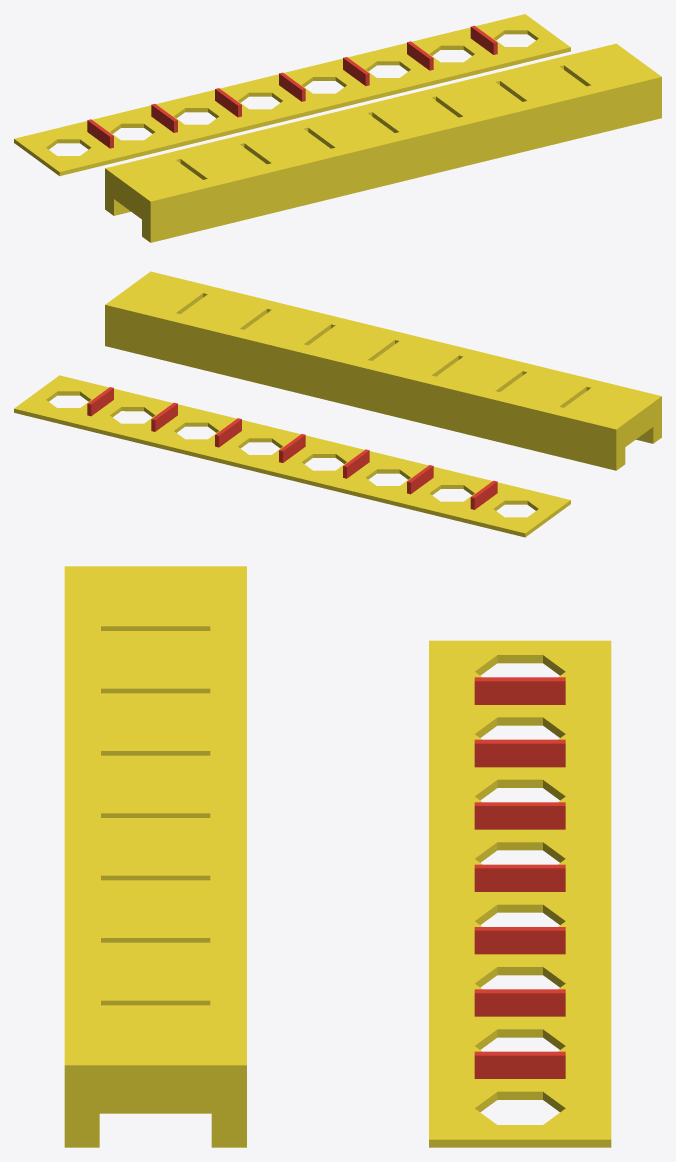
File: openscad_neo-strip.glb
3 views of the same model, one above another, from view 1: azimuth 30°, elevation 25°; view 2: azimuth 150°, elevation 25°; view 3: azimuth 270°, elevation 25° (orthographic). The views are drawn at different scales.
Parts seen in each view (by area): view 1: object; view 2: object; view 3: object.
Boxes of the visible parts, bbox=[...] form: object: bbox=[14, 14, 661, 242]; object: bbox=[14, 271, 661, 537]; object: bbox=[64, 566, 611, 1147].
Bounding box in the file's own units: 130 × 10 × 60.
